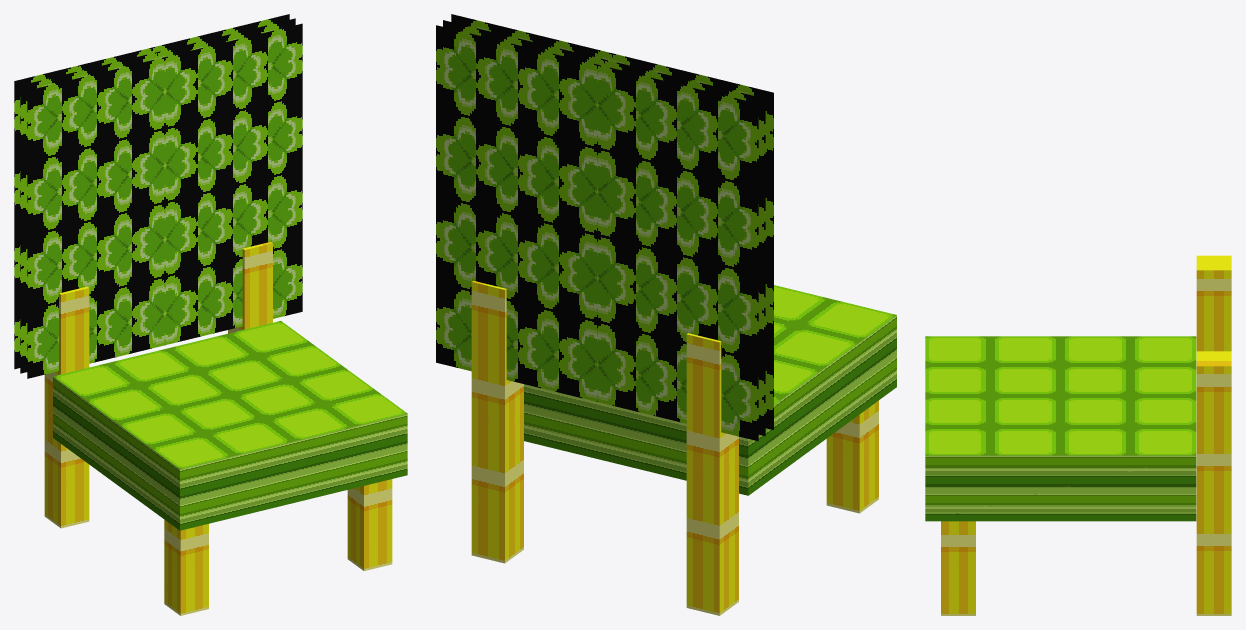
Rendered from 3855kg3_ser36.gltf.
The picture shows the model from 3 angles, left to right: view 1: azimuth 30°, elevation 25°; view 2: azimuth 150°, elevation 25°; view 3: azimuth 270°, elevation 25°; orthographic projection. The views are drawn at different scales.
Visible parts, largest first — view 1: 3855kg3_ser36; view 2: 3855kg3_ser36; view 3: 3855kg3_ser36.
Boxes of the visible parts, bbox=[...] form: 3855kg3_ser36: bbox=[14, 14, 407, 615]; 3855kg3_ser36: bbox=[436, 14, 896, 615]; 3855kg3_ser36: bbox=[925, 255, 1231, 615].
Size of the model in its own units: 0.8262 by 1.27 by 0.7441.
4 materials, 4 textured.
